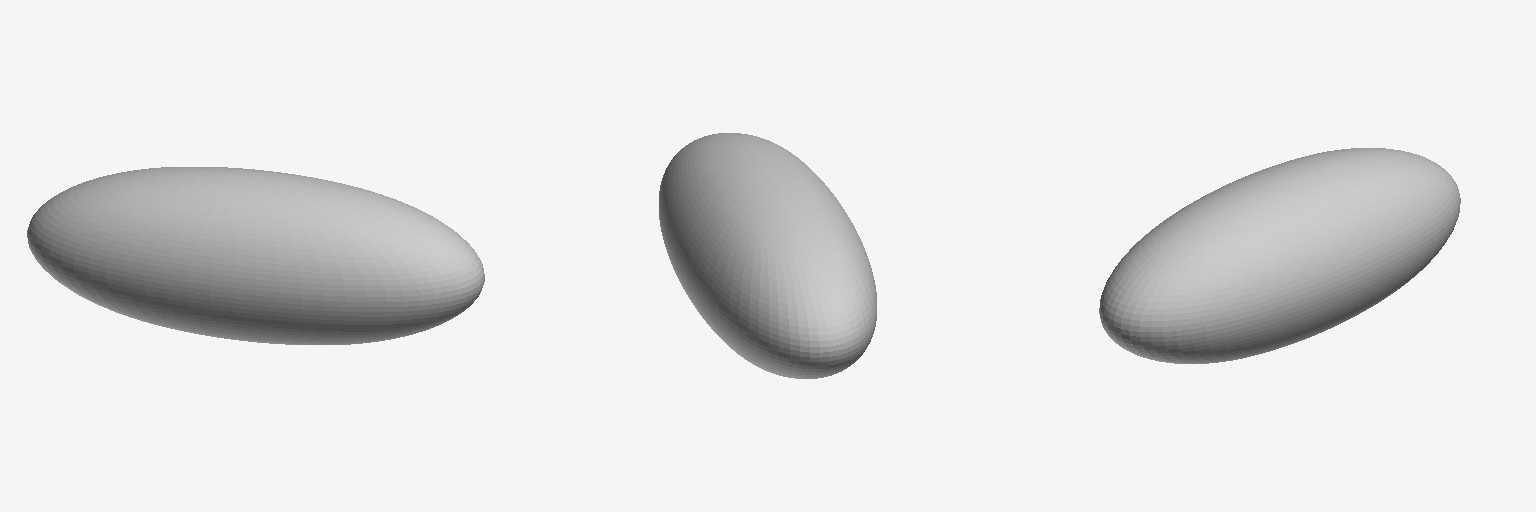
The model's file is nudo3-2.obj.
3 views of the same model, side by side, from view 1: azimuth 30°, elevation 25°; view 2: azimuth 150°, elevation 25°; view 3: azimuth 270°, elevation 25° (orthographic).
Visible parts, largest first — view 1: nudo3_2_Mesh; view 2: nudo3_2_Mesh; view 3: nudo3_2_Mesh.
Boxes of the visible parts, <box> form: nudo3_2_Mesh: <box>27,167,484,344</box>; nudo3_2_Mesh: <box>659,133,876,378</box>; nudo3_2_Mesh: <box>1099,148,1460,363</box>.
Size of the model in its own units: 0.8203 by 0.3825 by 0.8203.